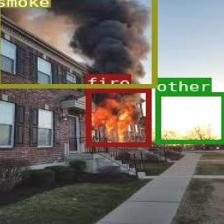fire: (85, 88, 150, 145)
smoke: (0, 0, 156, 87)
